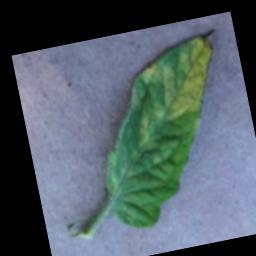Leaf_Mold: (120, 32, 229, 147)
